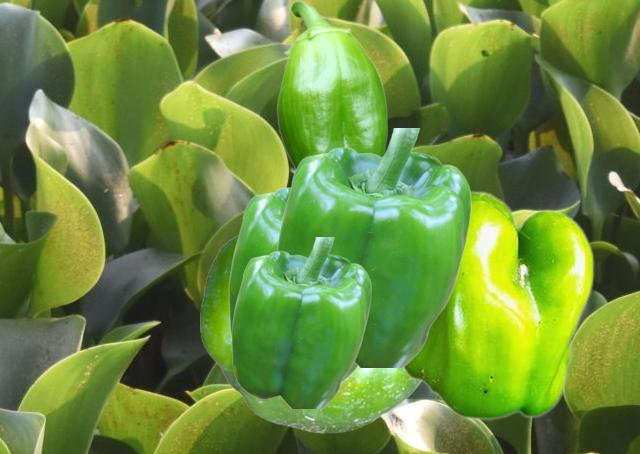bell_pepper: (276, 128, 470, 366), (400, 190, 593, 419), (200, 233, 422, 432), (228, 186, 357, 381), (231, 237, 370, 407), (276, 0, 387, 169)
